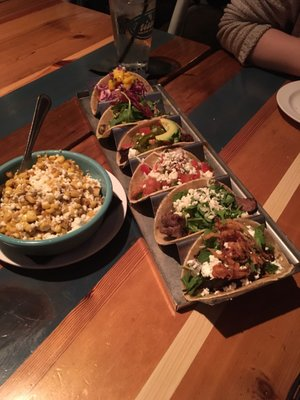pizza: (108, 0, 158, 75)
salad: (17, 94, 52, 177)
sushi: (0, 149, 113, 260)
